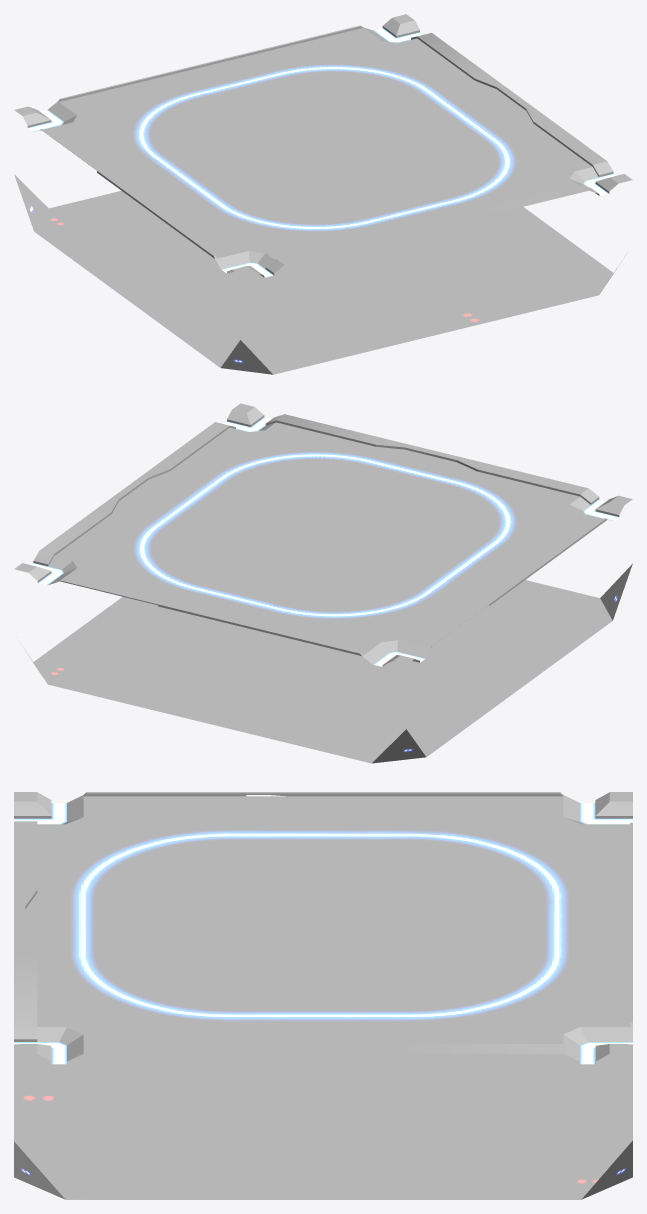
Rendered from 4Way_NoCaps.fbx.
3 renders of one model, top to bottom at view 1: azimuth 30°, elevation 25°; view 2: azimuth 150°, elevation 25°; view 3: azimuth 270°, elevation 25°, orthographic. The views are drawn at different scales.
Visible parts, largest first — view 1: 4Way_NoCaps; view 2: 4Way_NoCaps; view 3: 4Way_NoCaps.
Part boxes in pixels (x1,y1,x2,y2): 4Way_NoCaps: (14,14,632,374); 4Way_NoCaps: (14,403,632,763); 4Way_NoCaps: (14,792,632,1199).
Size of the model in its own units: 2.5 by 0.6517 by 2.5.
